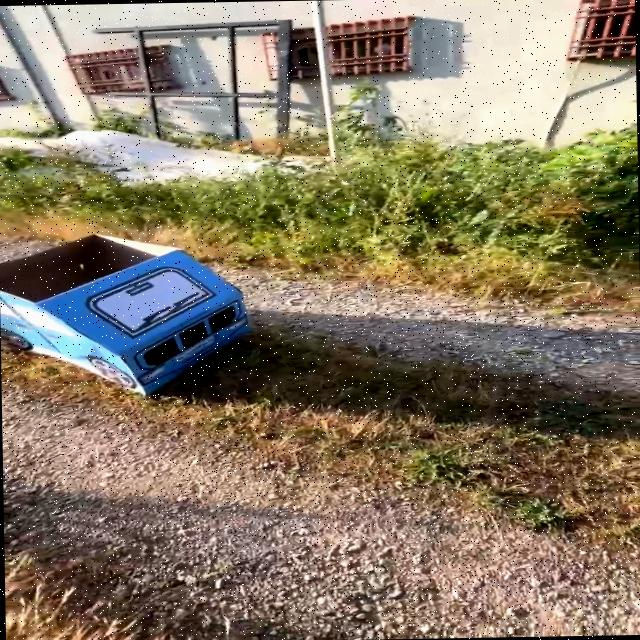blue_car: (0, 203, 315, 412)
